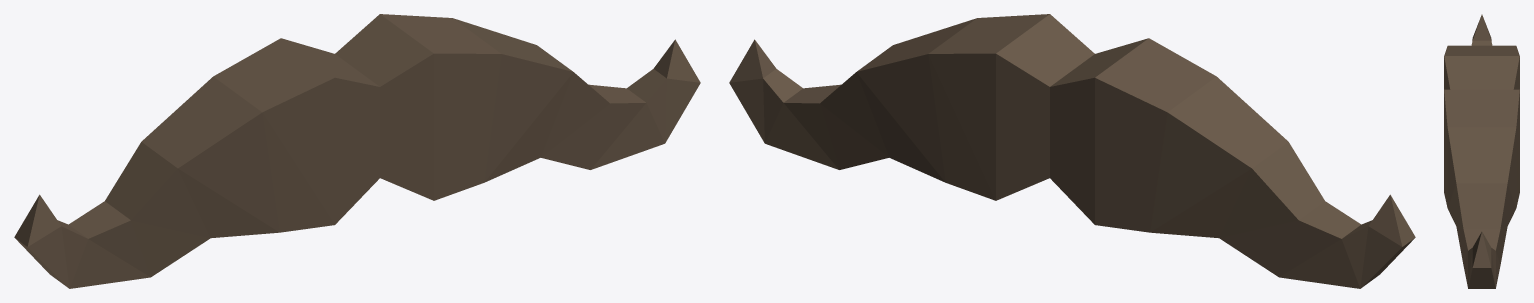
Rendered from mustache2.glb.
The picture shows the model from 3 angles, left to right: view 1: azimuth 30°, elevation 25°; view 2: azimuth 150°, elevation 25°; view 3: azimuth 270°, elevation 25°; orthographic projection. The views are drawn at different scales.
Parts seen in each view (by area): view 1: mustache2; view 2: mustache2; view 3: mustache2.
Part boxes in pixels (left/top/right/bottom): mustache2: left=14, top=14, right=700, bottom=288; mustache2: left=729, top=14, right=1415, bottom=288; mustache2: left=1444, top=14, right=1519, bottom=288.
Size of the model in its own units: 7 by 1.67 by 0.9737.
